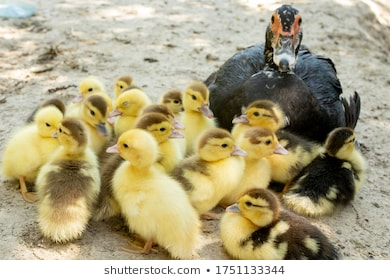duck: (199, 8, 353, 126), (106, 131, 208, 258)
